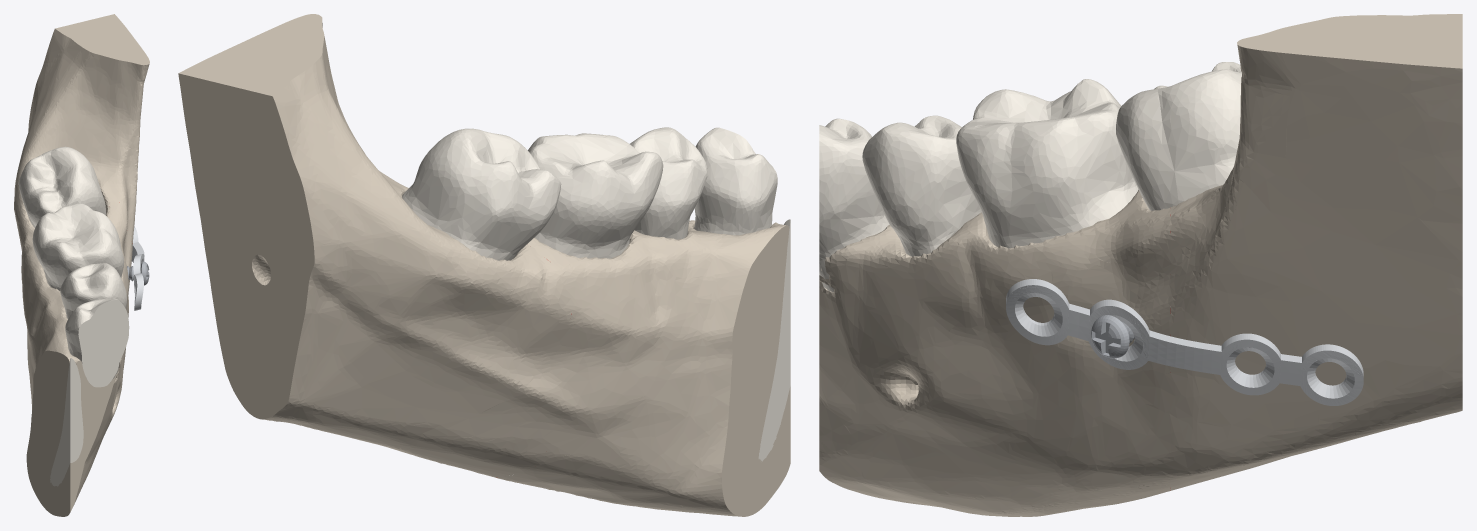
The model's file is 5-first-screw.glb.
3 views of the same model, side by side, from view 1: azimuth 30°, elevation 25°; view 2: azimuth 150°, elevation 25°; view 3: azimuth 270°, elevation 25° (orthographic). The views are drawn at different scales.
Parts seen in each view (by area): view 1: bone, teeth, plate, screw; view 2: bone, teeth; view 3: bone, teeth, plate, screw.
Boxes of the visible parts, box(x1,y1,x2,y2) form: bone: box(14, 14, 149, 516); teeth: box(18, 146, 129, 486); plate: box(131, 226, 144, 310); screw: box(127, 261, 149, 285); bone: box(178, 14, 790, 516); teeth: box(402, 127, 790, 461); bone: box(819, 14, 1462, 516); teeth: box(819, 62, 1241, 292); plate: box(1006, 279, 1363, 405); screw: box(1091, 315, 1134, 358).
Size of the model in its own units: 0.032 by 0.0474 by 0.044.
